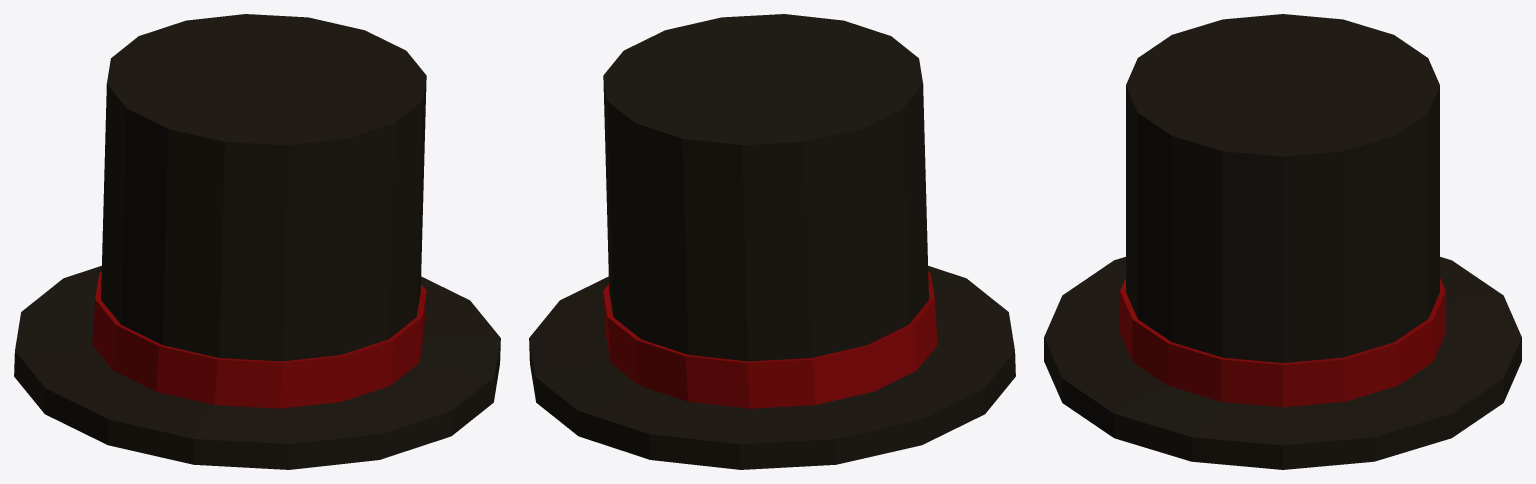
File: tophat fbx.fbx
3 renders of one model, left to right at view 1: azimuth 30°, elevation 25°; view 2: azimuth 150°, elevation 25°; view 3: azimuth 270°, elevation 25°, orthographic. The views are drawn at different scales.
Visible parts, largest first — view 1: pCylinder1; view 2: pCylinder1; view 3: pCylinder1.
Part boxes in pixels (box(x1,y1,x2,y2)): pCylinder1: box(14, 14, 500, 469); pCylinder1: box(529, 14, 1015, 469); pCylinder1: box(1044, 14, 1521, 469).
Bounding box in the file's own units: 3.04 × 2.07 × 3.04.
